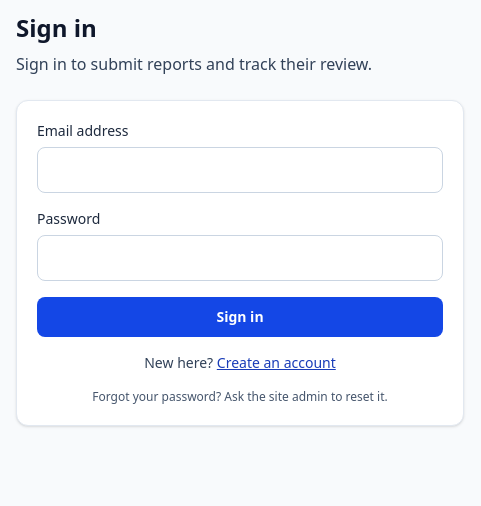
Test: LoginPage › shows a clear message for wrong credentials
Type "rahim@example.com" into the field labelled "Email address".
click(240, 170); type("rahim@example.com")  # box [37,147,443,193]
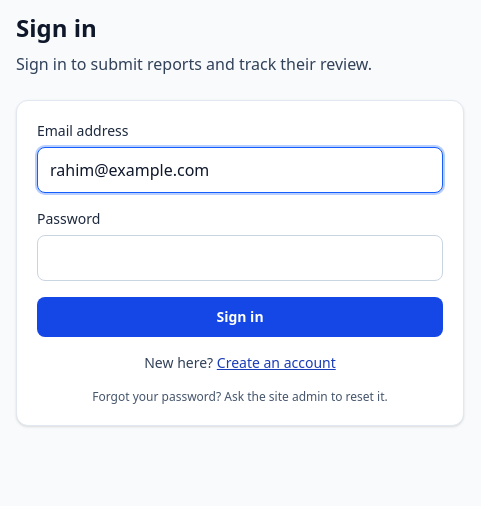
Type "wrong-pass" into the password field labelled "Password".
click(240, 258); type("wrong-pass")  # box [37,235,443,281]
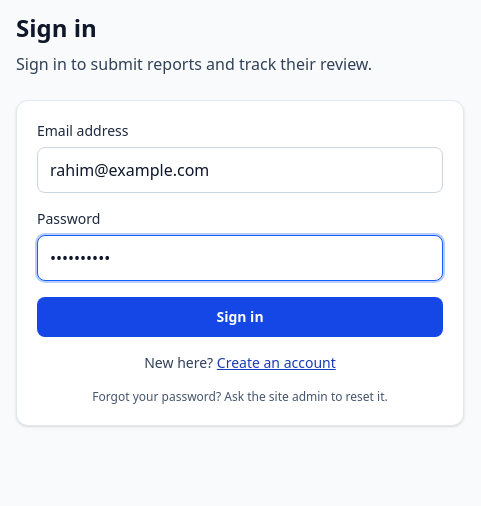
Click the button "Sign in".
click(240, 317)  # box [37,297,443,337]
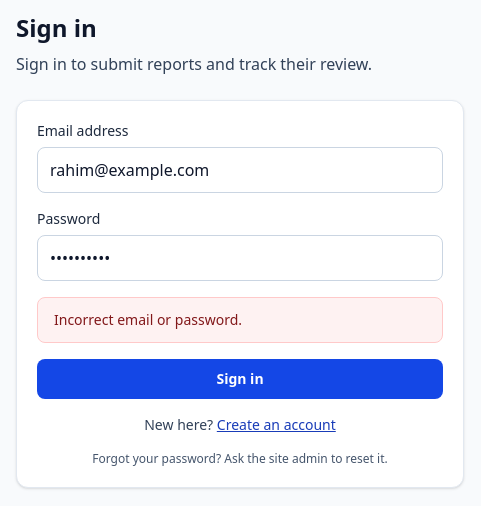
Now the text "Incorrect email or password." is shown, box [54,310,242,329]
